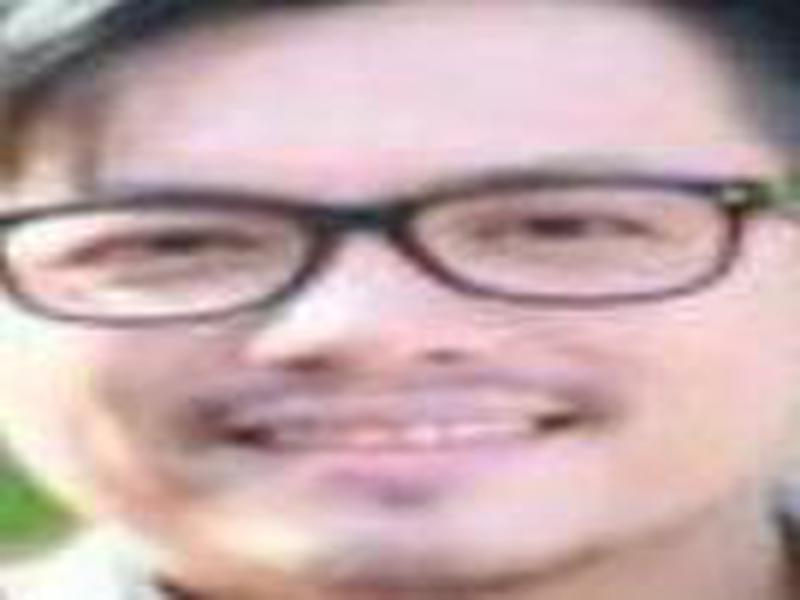without_mask: (8, 31, 778, 582)
